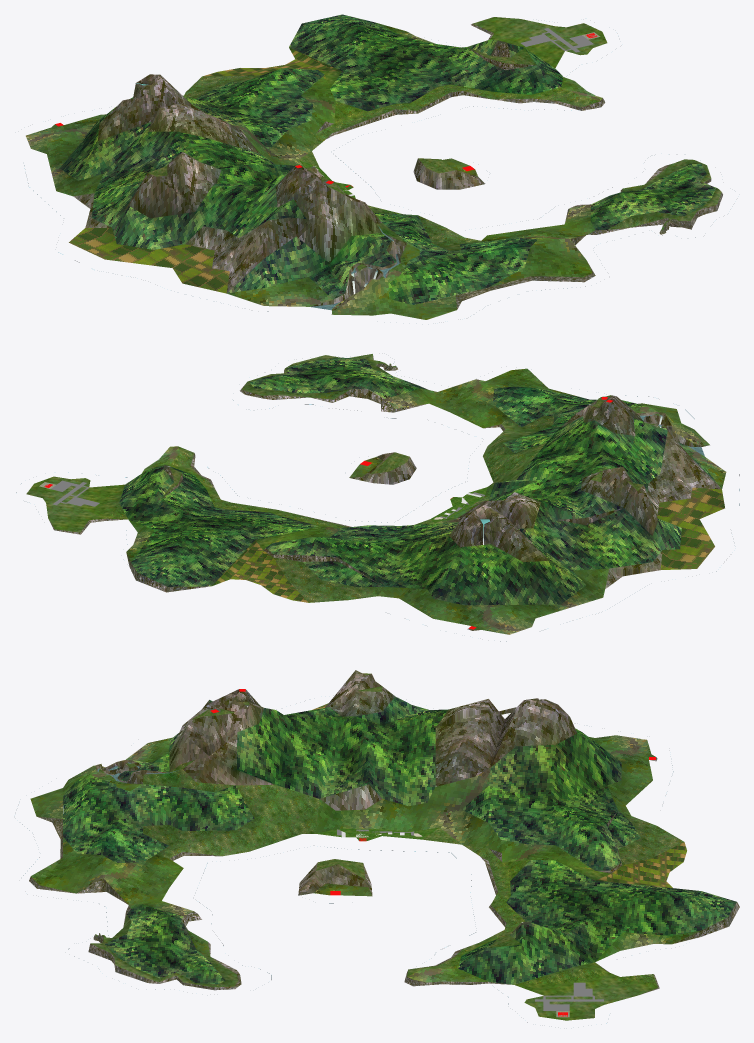
Rendered from uvmd-0047.glb.
3 views of the same model, one above another, from view 1: azimuth 30°, elevation 25°; view 2: azimuth 150°, elevation 25°; view 3: azimuth 270°, elevation 25° (orthographic). The views are drawn at different scales.
Parts seen in each view (by area): view 1: uvmd-0047; view 2: uvmd-0047; view 3: uvmd-0047.
Part boxes in pixels (x1,y1,x2,y2): uvmd-0047: (24, 14, 722, 319); uvmd-0047: (16, 354, 739, 641); uvmd-0047: (22, 670, 739, 1023).
Size of the model in its own units: 3837 by 502 by 3493.
11 materials, 11 textured.
